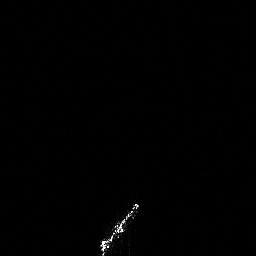ship: (95, 198, 143, 256)
